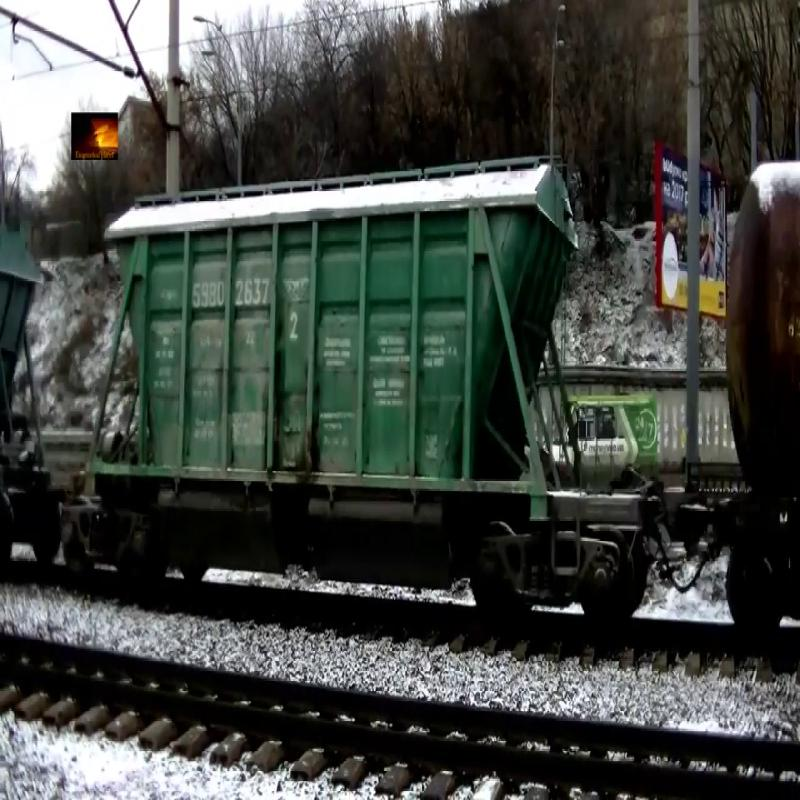train: (85, 150, 584, 551), (723, 148, 800, 554), (1, 200, 45, 525)
